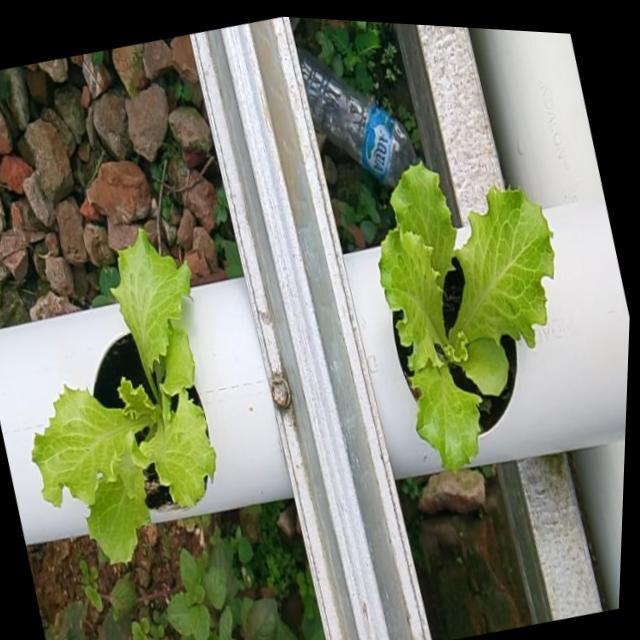Baby: (30, 229, 214, 564), (377, 163, 554, 476)
